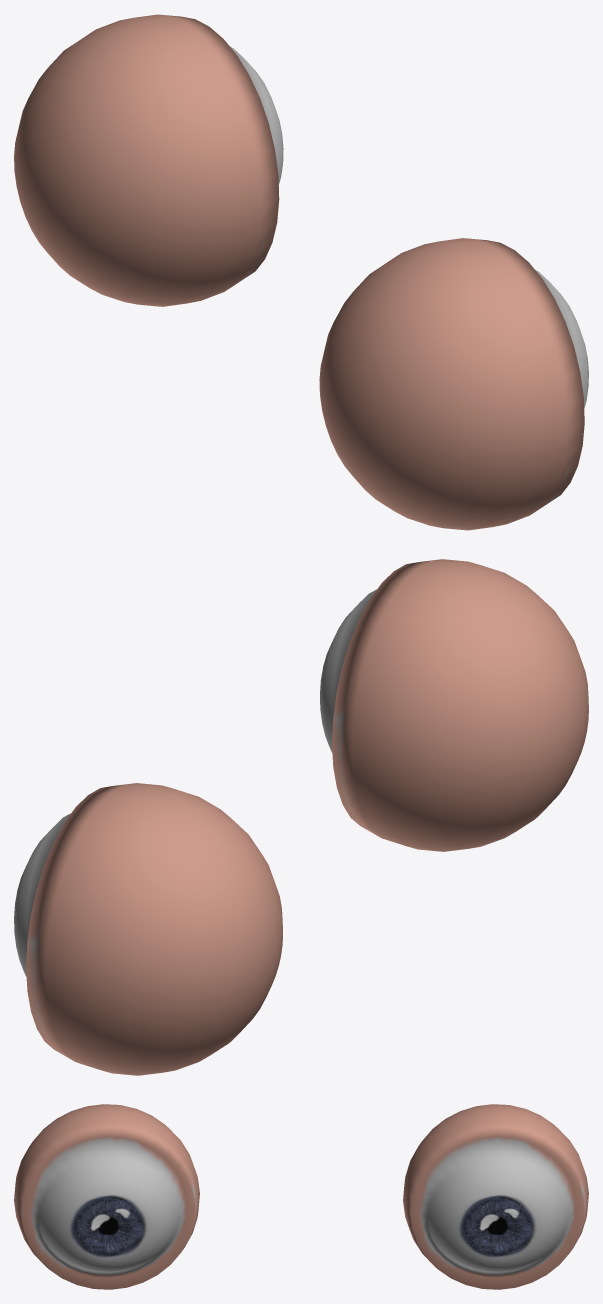
The model's file is Augen.fbx.
3 views of the same model, one above another, from view 1: azimuth 30°, elevation 25°; view 2: azimuth 150°, elevation 25°; view 3: azimuth 270°, elevation 25° (orthographic). The views are drawn at different scales.
Visible parts, largest first — view 1: Augen; view 2: Augen; view 3: Augen.
Part boxes in pixels (x1,y1,x2,y2): Augen: [14, 14, 588, 530]; Augen: [14, 559, 588, 1075]; Augen: [14, 1104, 588, 1289].
Size of the model in its own units: 0.4051 by 0.4553 by 1.41.
